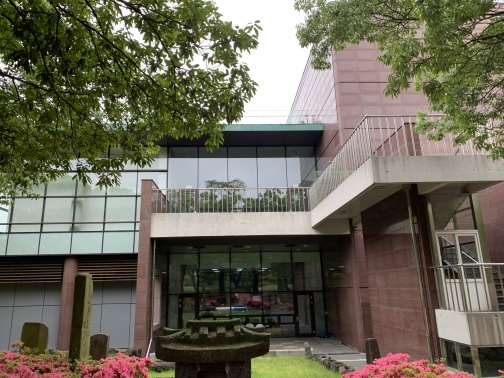Museum: (8, 119, 501, 371)
